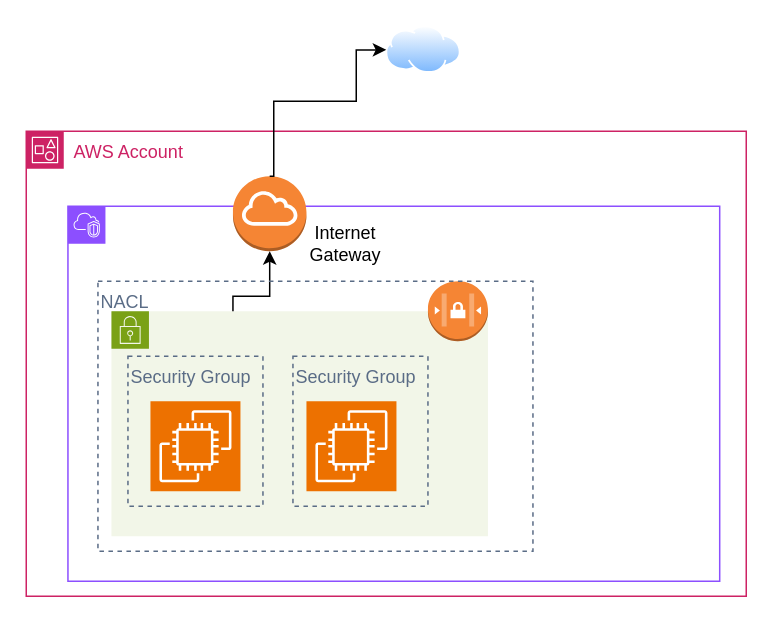
This 773x623 diagram has some shape labels left out. The box of each missing label's shape, as (x1, y1, x2, y2) in pixels:
Public subnet: (110, 310, 488, 536)
VPC 1: (66, 205, 720, 581)
